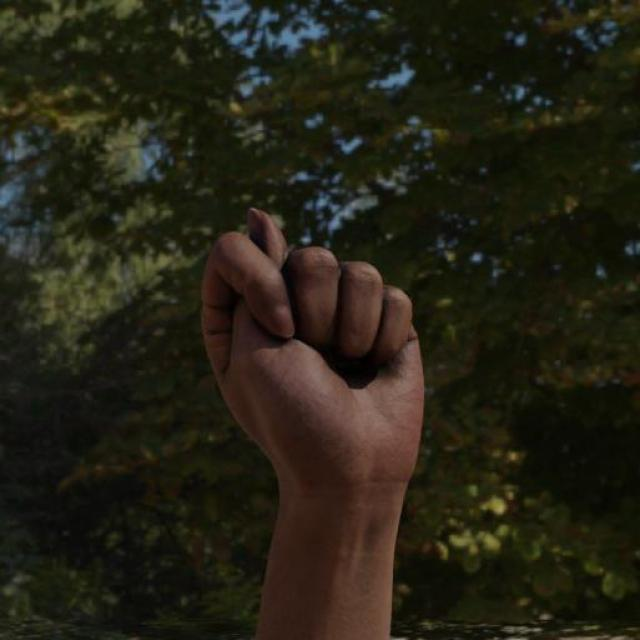T: (192, 205, 428, 486)
